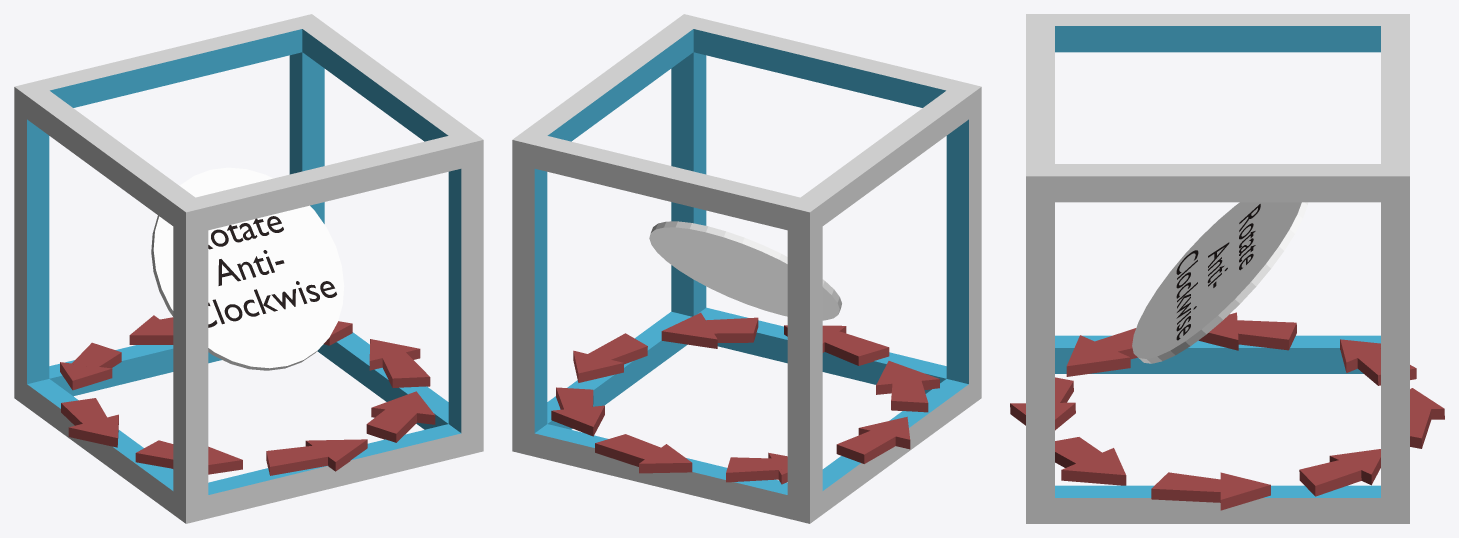
File: Rotate AntiClockwise.glb
3 renders of one model, left to right at view 1: azimuth 30°, elevation 25°; view 2: azimuth 150°, elevation 25°; view 3: azimuth 270°, elevation 25°, orthographic. The views are drawn at different scales.
Parts seen in each view (by area): view 1: Cube, Cylinder.001, Cylinder, Text; view 2: Cube, Cylinder, Cylinder.001; view 3: Cube, Cylinder, Cylinder.001, Text.
Part boxes in pixels (bbox=[...]): Cube: bbox=[14, 14, 483, 523]; Cylinder.001: bbox=[151, 167, 344, 370]; Cylinder: bbox=[60, 315, 435, 475]; Text: bbox=[208, 216, 336, 327]; Cube: bbox=[512, 14, 981, 523]; Cylinder: bbox=[551, 312, 939, 484]; Cylinder.001: bbox=[649, 221, 841, 320]; Cube: bbox=[1026, 14, 1409, 523]; Cylinder: bbox=[1010, 312, 1444, 510]; Cylinder.001: bbox=[1132, 202, 1308, 363]; Text: bbox=[1176, 204, 1260, 340].
Bounding box in the file's own units: 2.31 × 2 × 2.27.
